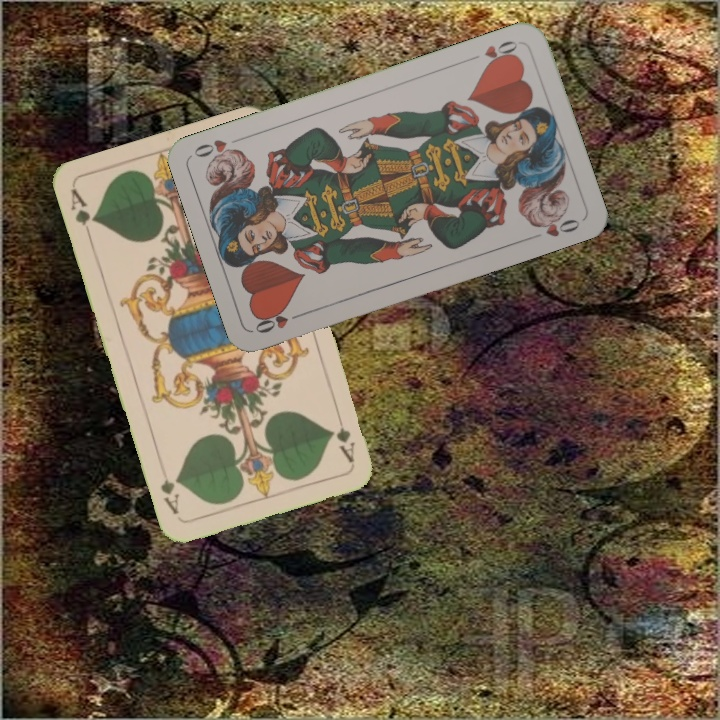GA: (66, 185, 100, 242), (332, 406, 358, 465)
HO: (251, 306, 308, 336), (480, 36, 521, 69)
